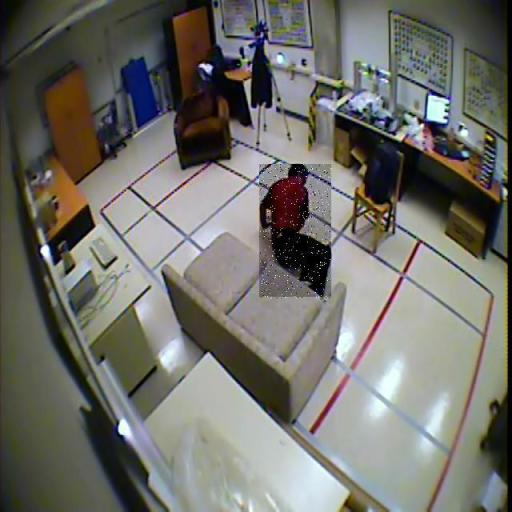Fall: (260, 165, 332, 299)
